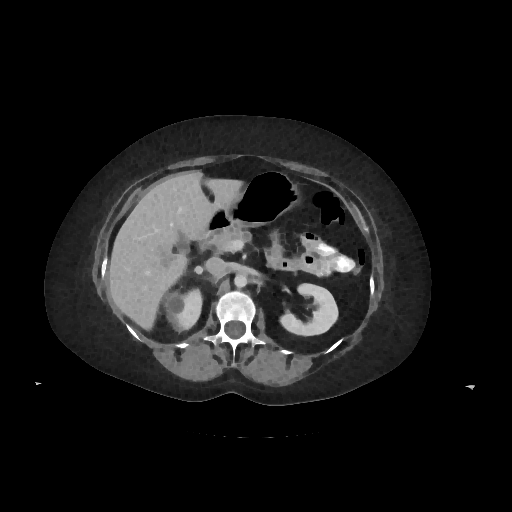Lesion: (169, 297, 188, 315)
